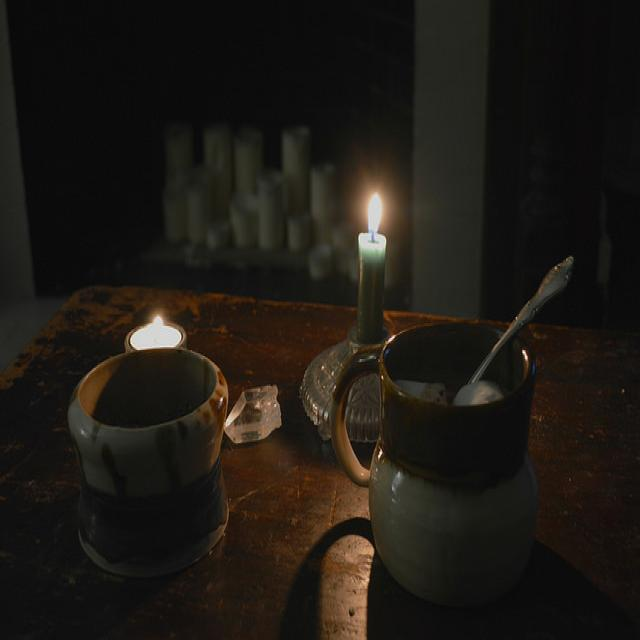Cup: (335, 267, 568, 619), (71, 336, 245, 586)
Table: (0, 303, 640, 640)
